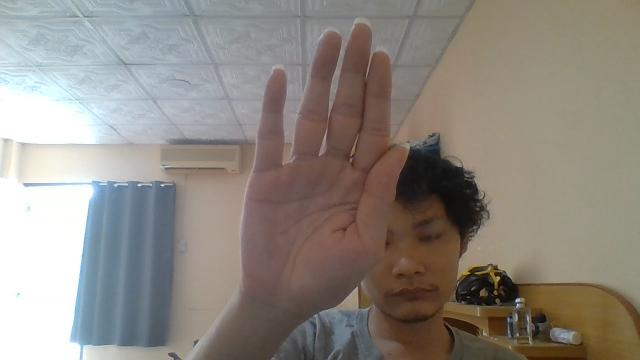Stop: (238, 17, 410, 318)
